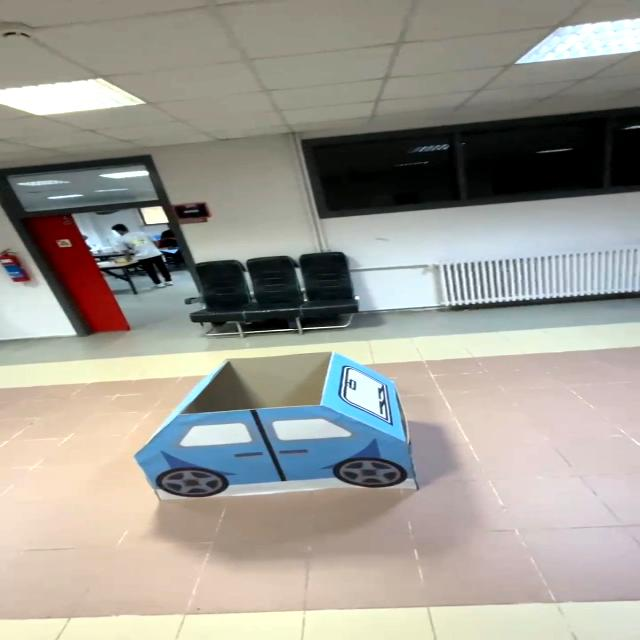blue_car: (98, 347, 441, 510)
